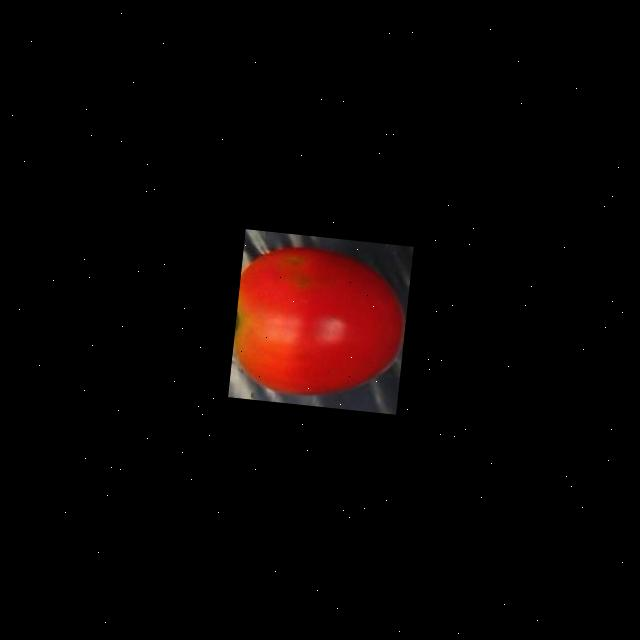tomato: (228, 236, 411, 407)
